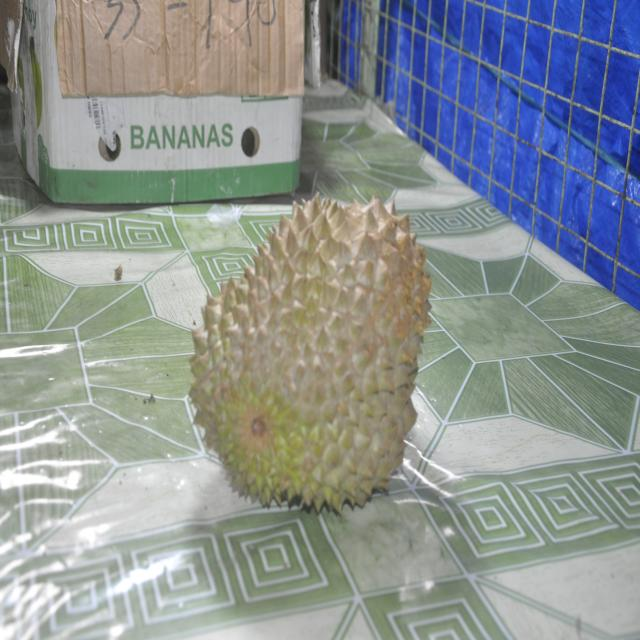mature: (190, 195, 431, 513)
